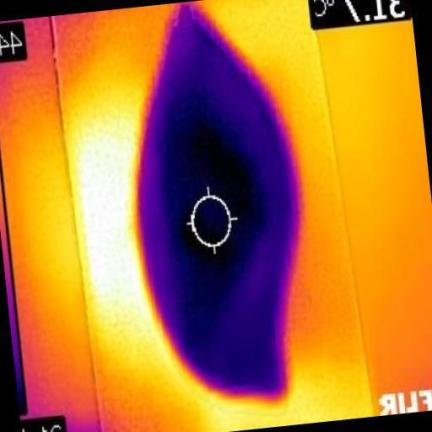mango: (139, 6, 299, 396)
